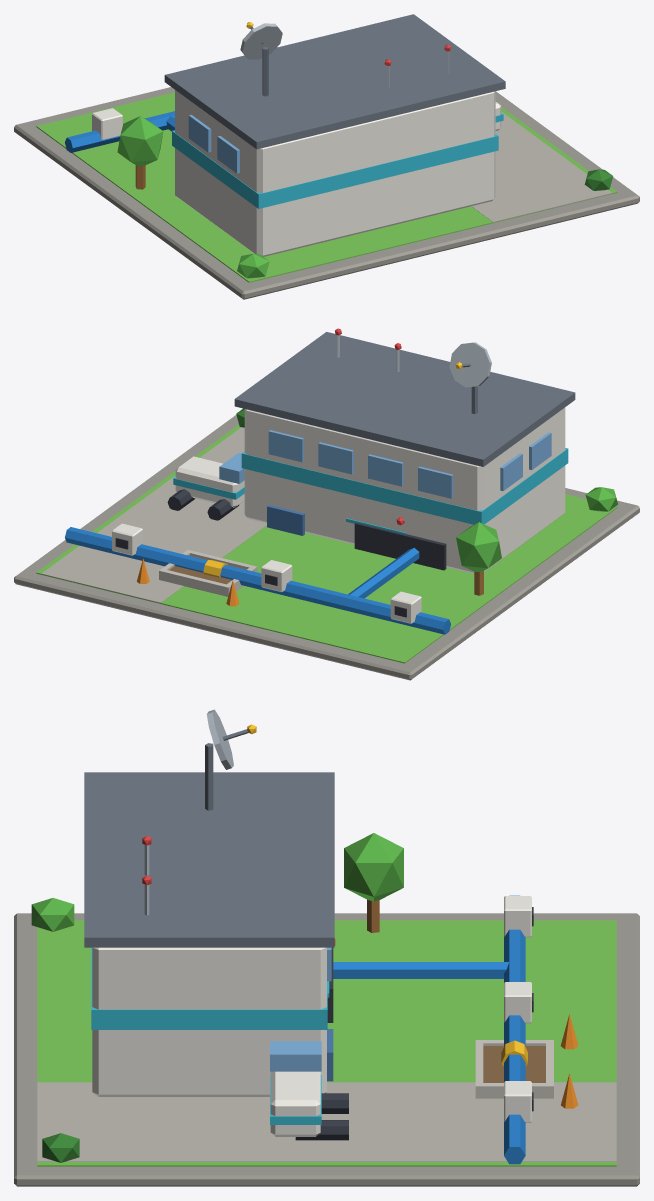
The model's file is loss_control_center.glb.
3 renders of one model, top to bottom at view 1: azimuth 30°, elevation 25°; view 2: azimuth 150°, elevation 25°; view 3: azimuth 270°, elevation 25°, orthographic. The views are drawn at different scales.
Visible parts, largest first — view 1: corpo, gira_1.001; view 2: corpo, gira_1.001; view 3: corpo, gira_1.001.
Part boxes in pixels (bbox=[...]): corpo: bbox=[14, 14, 639, 299]; gira_1.001: bbox=[240, 22, 282, 59]; corpo: bbox=[14, 328, 639, 680]; gira_1.001: bbox=[449, 342, 491, 387]; corpo: bbox=[14, 743, 639, 1186]; gira_1.001: bbox=[206, 709, 256, 769].
Bounding box in the file's own units: 4 × 2.06 × 4.
